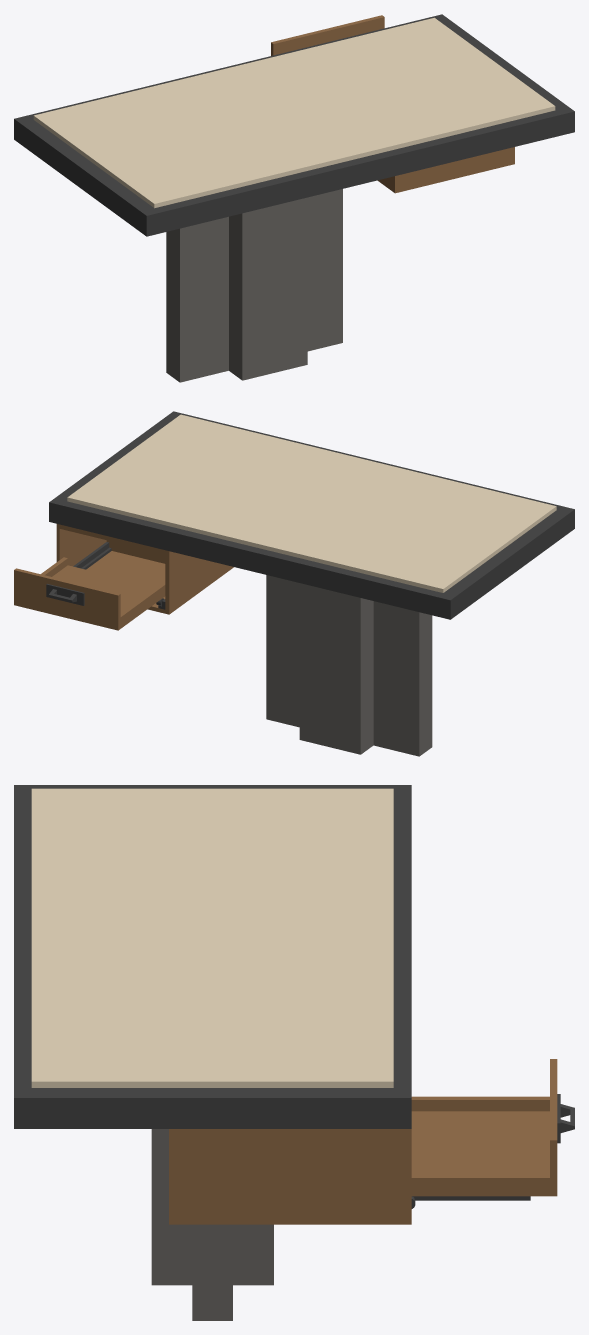
File: F11_DeskOpen.fbx
The picture shows the model from 3 angles, top to bottom: view 1: azimuth 30°, elevation 25°; view 2: azimuth 150°, elevation 25°; view 3: azimuth 270°, elevation 25°; orthographic projection. The views are drawn at different scales.
Visible parts, largest first — view 1: DeskOpen; view 2: DeskOpen; view 3: DeskOpen.
Part boxes in pixels (bbox=[...]): DeskOpen: bbox=[14, 14, 574, 382]; DeskOpen: bbox=[14, 411, 574, 756]; DeskOpen: bbox=[14, 785, 574, 1320].
Size of the model in its own units: 4.66 by 2.47 by 3.53.
